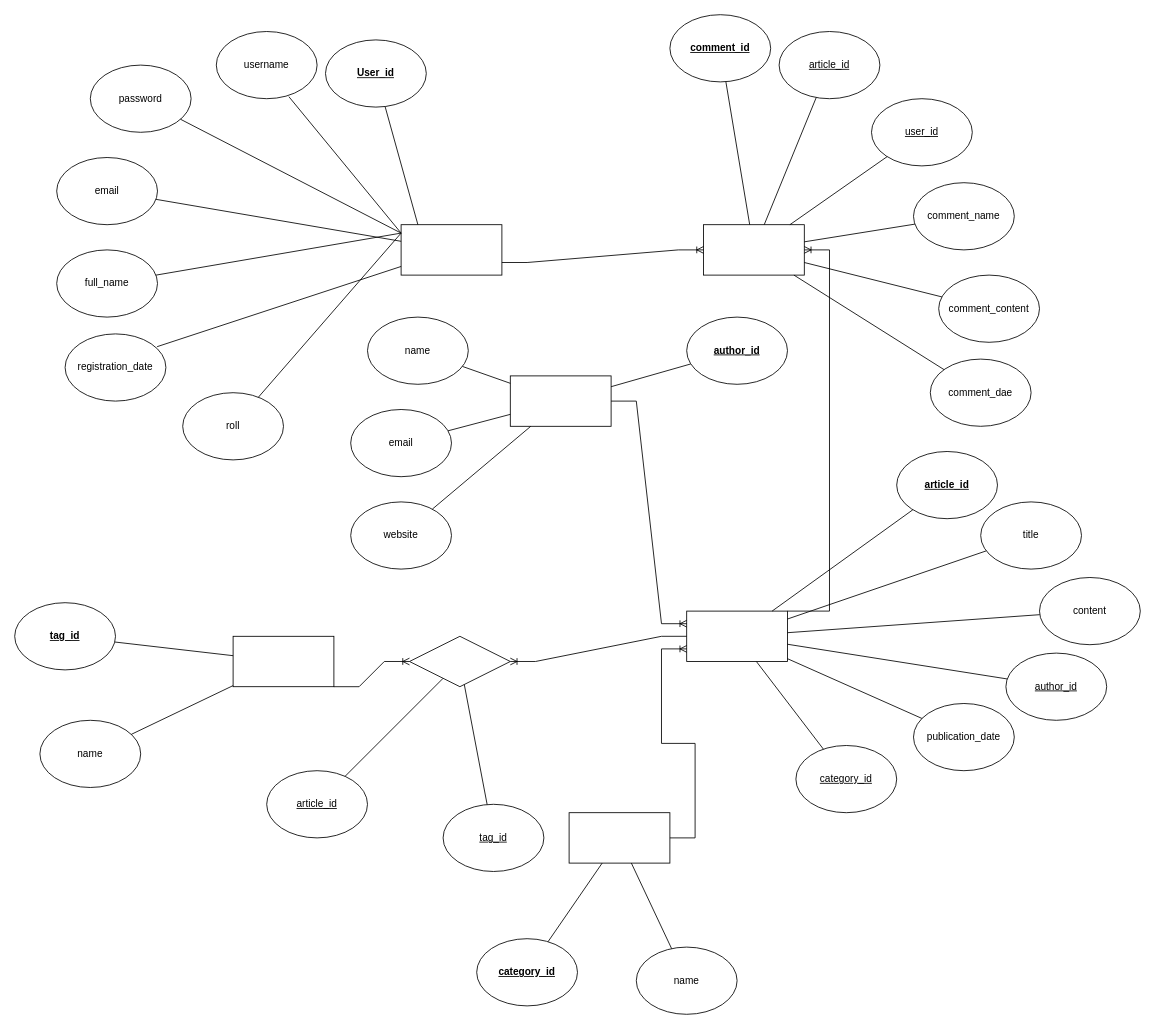
Some shapes in this 1155 by 1029 pixel diagram are drawn without their labels. The centre of each missing label's shape, as x and y in pixels:
Article_tag: point 459,661
Articles: point 737,636
Authors: point 560,400
Categories: point 619,837
Comments: point 753,249
Tags: point 283,661
User: point 451,249
